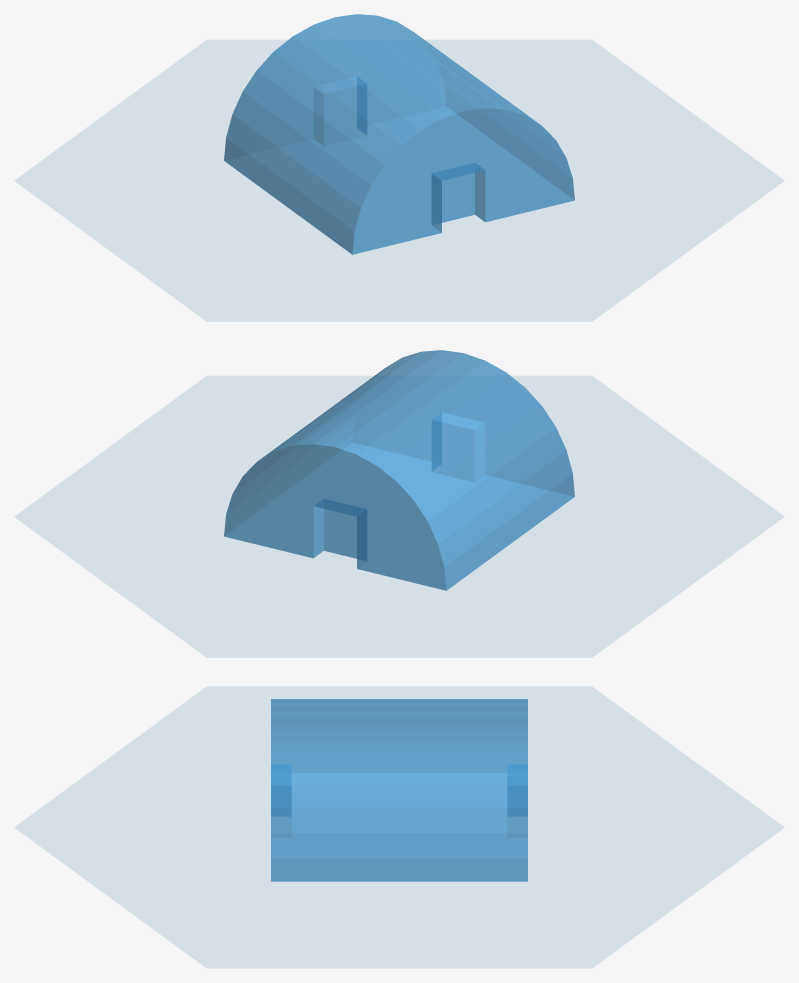
The model's file is house_blue.fbx.
The picture shows the model from 3 angles, top to bottom: view 1: azimuth 30°, elevation 25°; view 2: azimuth 150°, elevation 25°; view 3: azimuth 270°, elevation 25°; orthographic projection.
Parts seen in each view (by area): view 1: 柱体; view 2: 柱体; view 3: 柱体.
Part boxes in pixels (x1,y1,x2,y2): 柱体: (14, 14, 784, 321); 柱体: (14, 350, 784, 657); 柱体: (14, 686, 784, 968).
Bounding box in the file's own units: 520 × 100 × 600.
